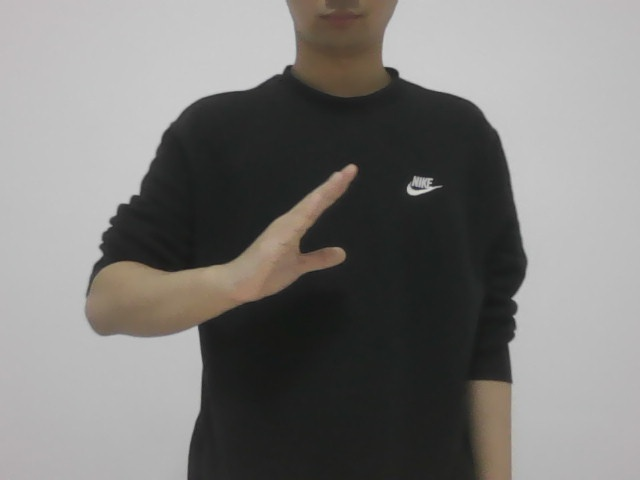morning: (237, 152, 359, 314)
